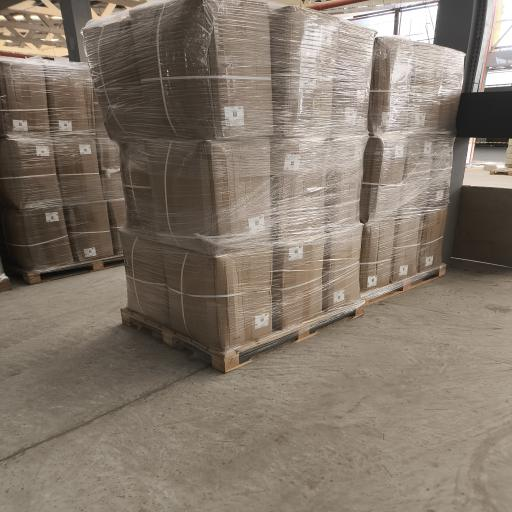pallet: (121, 301, 363, 372), (362, 264, 446, 307), (6, 256, 123, 284), (0, 276, 11, 292), (490, 170, 511, 175)
